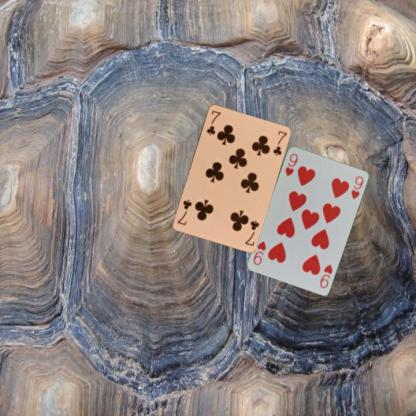7c: (242, 217, 260, 247), (204, 108, 222, 136)
9h: (318, 261, 334, 290), (282, 150, 298, 178)
